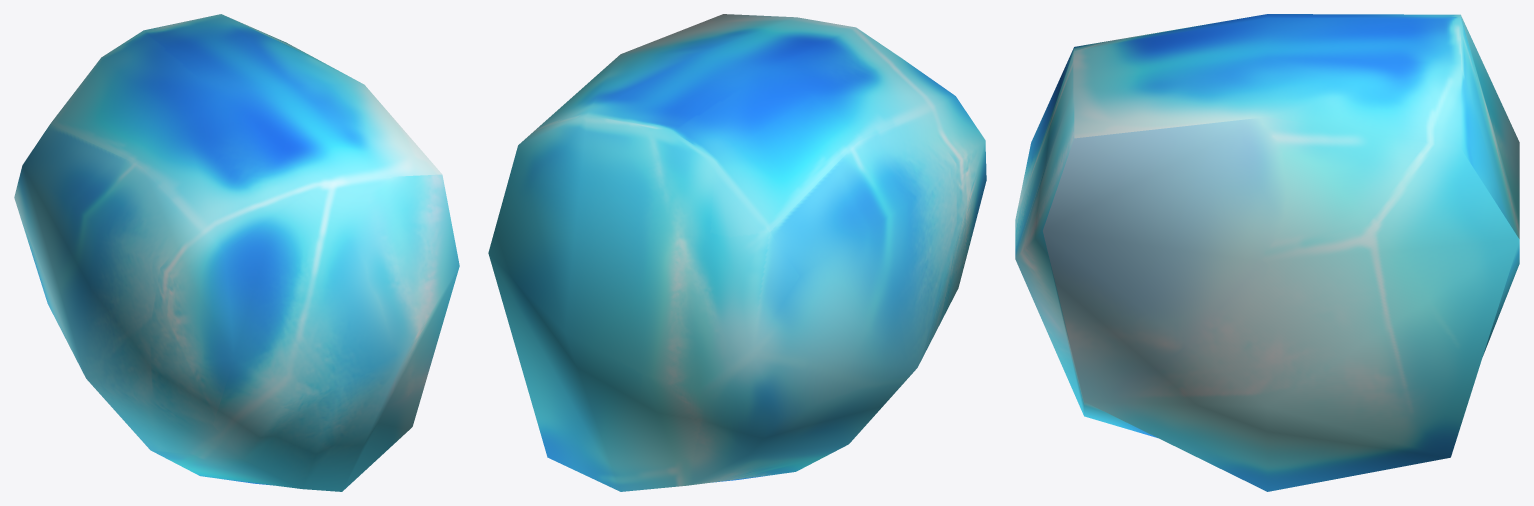
File: Flshing_Bingdong_01.FBX
3 renders of one model, left to right at view 1: azimuth 30°, elevation 25°; view 2: azimuth 150°, elevation 25°; view 3: azimuth 270°, elevation 25°, orthographic. The views are drawn at different scales.
Size of the model in its own units: 76.47 by 95.02 by 99.04.
1 material, 1 textured.
